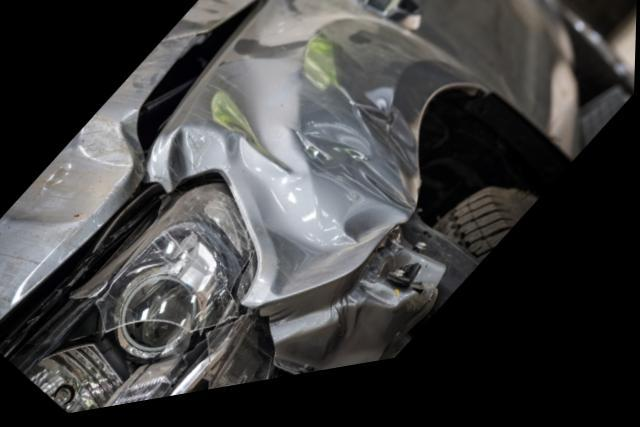dent: (172, 117, 420, 383), (7, 116, 140, 227)
lamp broken: (0, 180, 278, 416)
